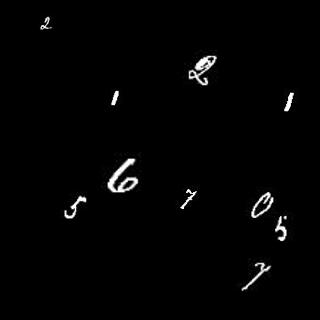five: (60, 195, 88, 219), (270, 216, 292, 243)
one: (282, 90, 294, 113), (111, 88, 120, 107)
seven: (241, 262, 269, 292), (179, 187, 198, 210)
six: (108, 157, 139, 193)
two: (186, 53, 216, 88), (39, 12, 53, 33)
zero: (250, 195, 273, 220)
